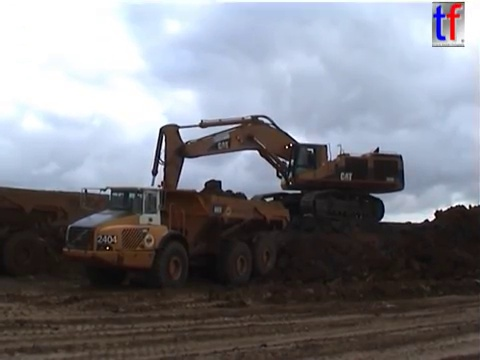excavator: (129, 111, 409, 247)
truck: (60, 180, 294, 291), (1, 182, 160, 283)
